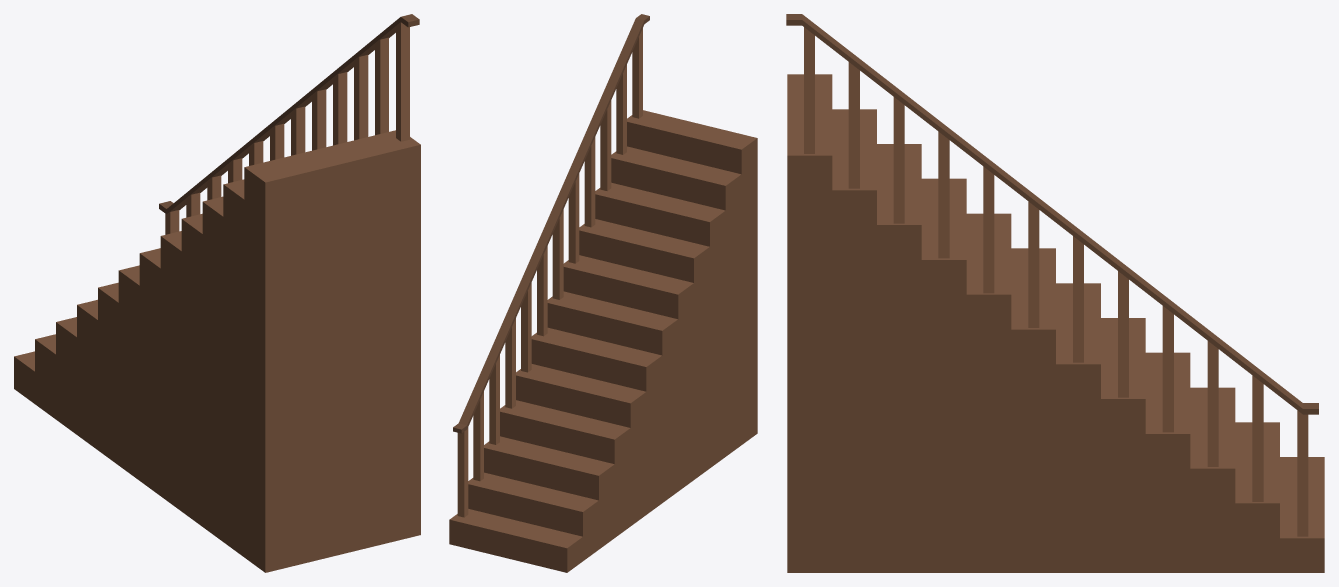
Rendered from Stairs3_C1.fbx.
3 views of the same model, side by side, from view 1: azimuth 30°, elevation 25°; view 2: azimuth 150°, elevation 25°; view 3: azimuth 270°, elevation 25° (orthographic). The views are drawn at different scales.
Parts seen in each view (by area): view 1: Stairs3_C1; view 2: Stairs3_C1; view 3: Stairs3_C1.
Boxes of the visible parts, x1,y1,x2,y2 form: Stairs3_C1: (14,14,420,572); Stairs3_C1: (449,14,757,572); Stairs3_C1: (786,14,1324,572).
Bounding box in the file's own units: 125 × 397 × 351.
